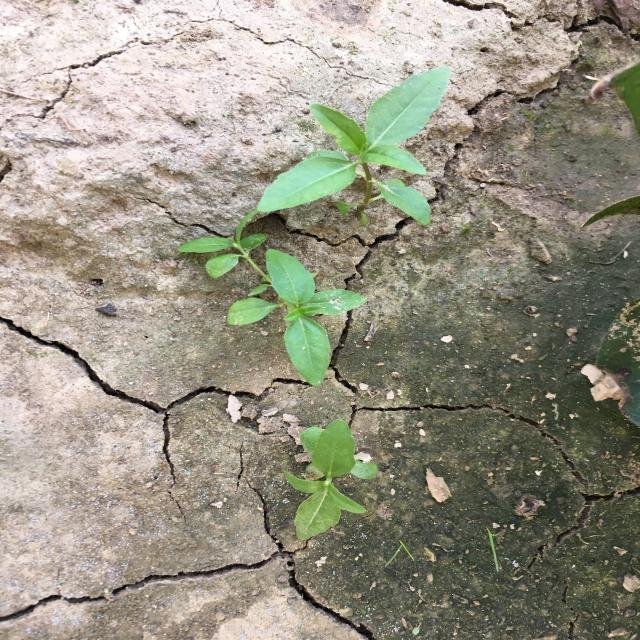Eclipta: (174, 208, 370, 389), (253, 63, 453, 227), (280, 418, 381, 542)
